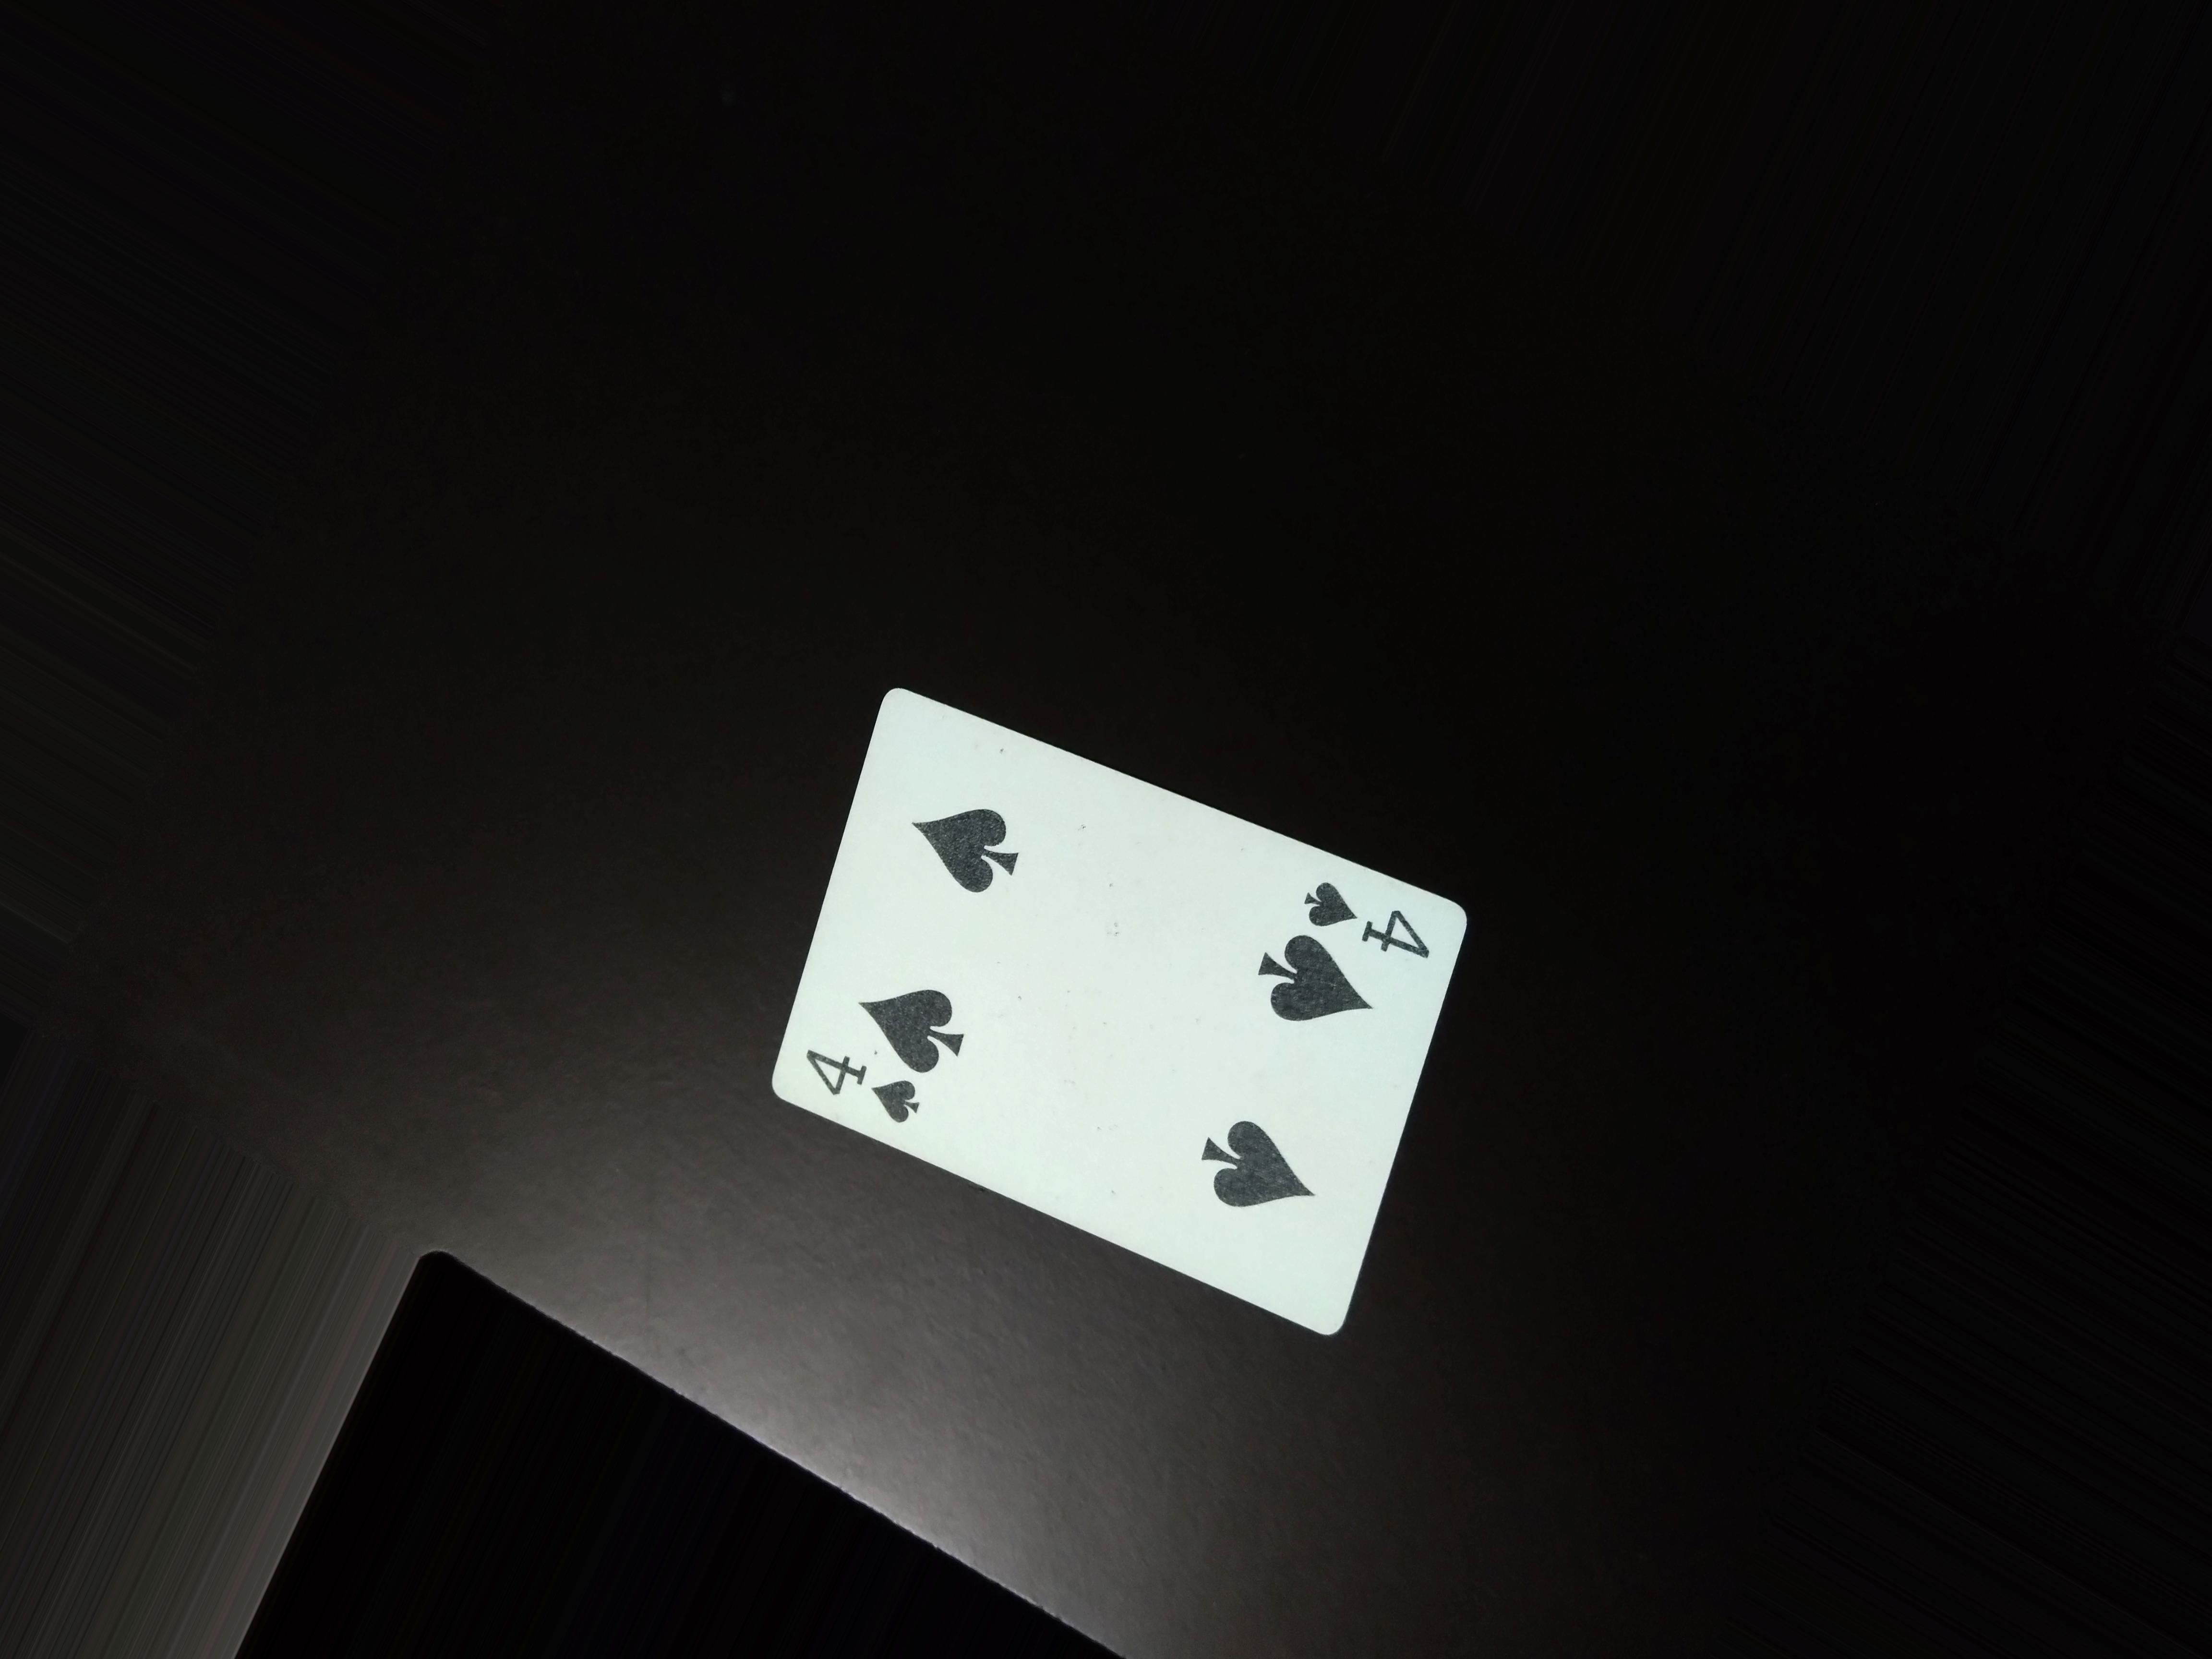4S: (1301, 870, 1461, 983)
